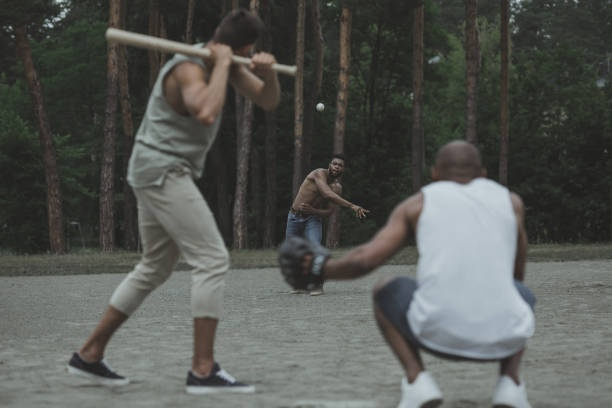bita: (101, 23, 305, 75)
